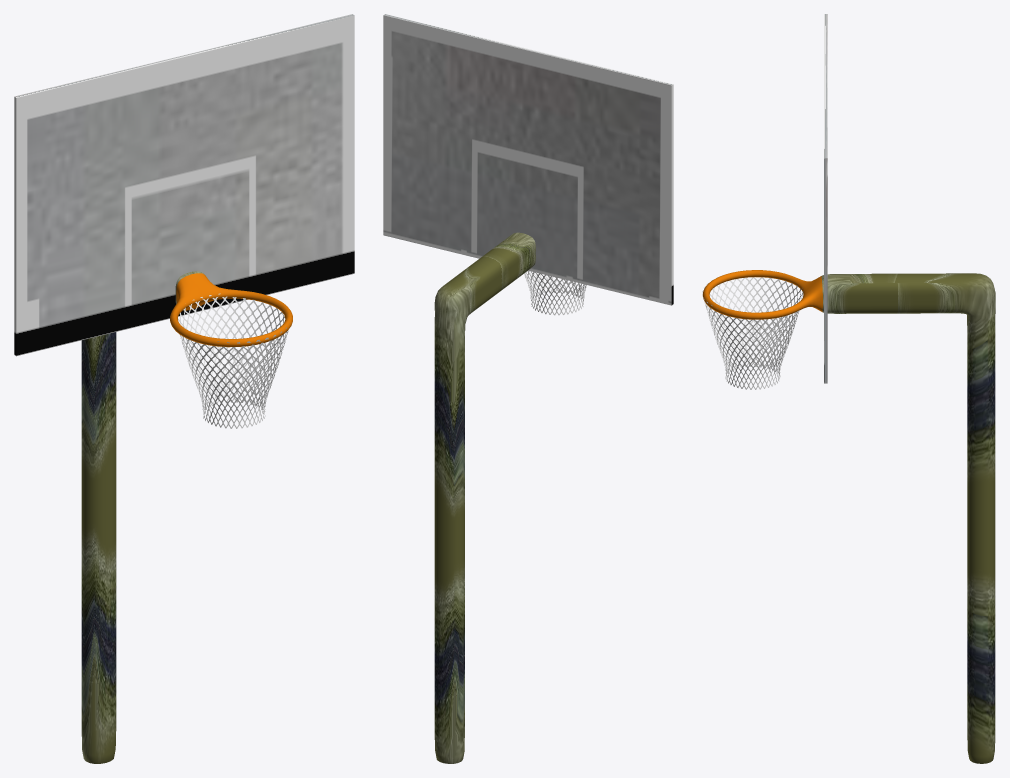
File: pole.fbx
The picture shows the model from 3 angles, left to right: view 1: azimuth 30°, elevation 25°; view 2: azimuth 150°, elevation 25°; view 3: azimuth 270°, elevation 25°; orthographic projection. The views are drawn at different scales.
Parts seen in each view (by area): view 1: Bacl, Pole, Basket1; view 2: Bacl, Pole, Basket1; view 3: Pole, Basket1, Bacl.
Part boxes in pixels (<box>): Bacl: <box>14,14,354,356</box>; Pole: <box>81,271,292,763</box>; Basket1: <box>178,293,289,428</box>; Bacl: <box>383,14,673,305</box>; Pole: <box>434,232,535,763</box>; Basket1: <box>524,270,586,315</box>; Pole: <box>702,270,995,763</box>; Basket1: <box>702,277,803,389</box>; Bacl: <box>824,14,827,383</box>.
Bounding box in the file's own units: 6.36 × 13.81 × 5.47.
Materials: 4 (3 with a texture image).
